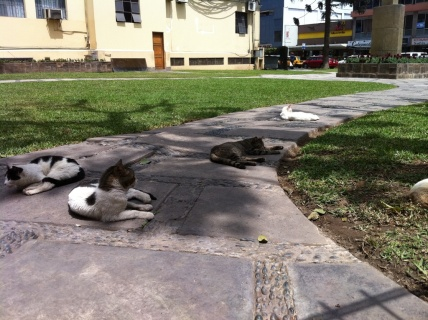Cat: (68, 157, 154, 221), (2, 154, 84, 197), (208, 135, 282, 168), (278, 102, 320, 120)
